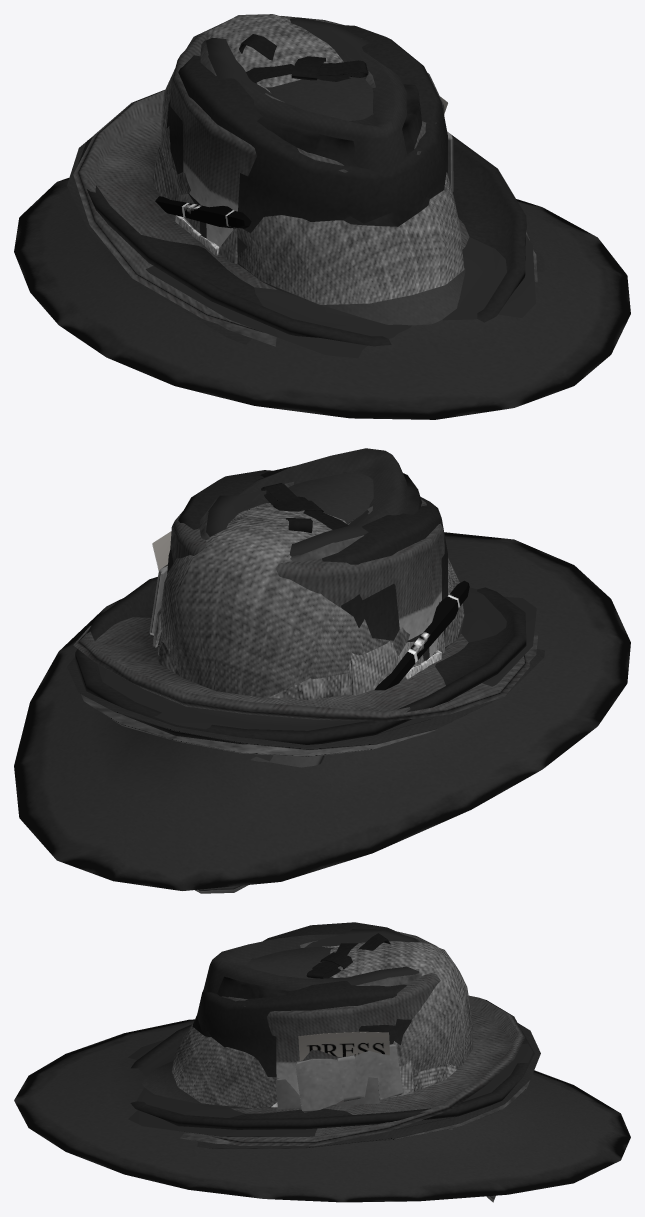
Rendered from Player Hats 1-8 Tilt.fbx.
The picture shows the model from 3 angles, top to bottom: view 1: azimuth 30°, elevation 25°; view 2: azimuth 150°, elevation 25°; view 3: azimuth 270°, elevation 25°; orthographic projection. The views are drawn at different scales.
Visible parts, largest first — view 1: Hat_8_Low, Hat_3_Low, Hat_7_Low, Hat_2_Low, Hat_1_Low, Hat_4_Low, Hat_5_Ribbon_3_Low, Hat_5_Ears_Low, Hat_6_Pen_1_Low, Hat_6_Low, Hat_5_Ribbon_1_Low; view 2: Hat_8_Low, Hat_7_Low, Hat_2_Low, Hat_3_Low, Hat_1_Low, Hat_4_Low, Hat_6_Low, Hat_5_Low, Hat_5_Ears_Low, Hat_6_Pen_1_Low, Hat_5_Ribbon_3_Low; view 3: Hat_8_Low, Hat_7_Low, Hat_2_Low, Hat_3_Low, Hat_1_Low, Hat_4_Low, Bow_2_Low, Hat_6_Paper_Low, Hat_6_Low, Bow_1_Low, Hat_5_Ribbon_3_Low, Hat_5_Low (+1 smaller).
Part boxes in pixels (box(x1,y1,x2,y2)): Hat_8_Low: box(14, 76, 630, 419); Hat_3_Low: box(78, 24, 526, 346); Hat_7_Low: box(161, 14, 465, 325); Hat_2_Low: box(73, 16, 529, 332); Hat_1_Low: box(145, 17, 535, 358); Hat_4_Low: box(67, 49, 544, 344); Hat_5_Ribbon_3_Low: box(239, 34, 368, 82); Hat_5_Ears_Low: box(152, 83, 270, 263); Hat_6_Pen_1_Low: box(155, 196, 251, 228); Hat_6_Low: box(200, 38, 537, 346); Hat_5_Ribbon_1_Low: box(291, 56, 325, 80); Hat_8_Low: box(14, 466, 630, 890); Hat_7_Low: box(161, 503, 464, 697); Hat_2_Low: box(73, 499, 529, 721); Hat_3_Low: box(75, 470, 526, 744); Hat_1_Low: box(97, 472, 536, 736); Hat_4_Low: box(67, 448, 544, 749); Hat_6_Low: box(81, 482, 537, 756); Hat_5_Low: box(157, 632, 349, 893); Hat_5_Ears_Low: box(152, 518, 445, 695); Hat_6_Pen_1_Low: box(374, 580, 469, 690); Hat_5_Ribbon_3_Low: box(261, 483, 348, 532); Hat_8_Low: box(14, 936, 630, 1202); Hat_7_Low: box(141, 941, 472, 1108); Hat_2_Low: box(205, 931, 525, 1145); Hat_3_Low: box(130, 922, 534, 1129); Hat_1_Low: box(128, 929, 532, 1136); Hat_4_Low: box(196, 934, 540, 1148); Bow_2_Low: box(295, 1044, 402, 1112); Hat_6_Paper_Low: box(298, 1031, 390, 1060); Hat_6_Low: box(180, 939, 529, 1144); Bow_1_Low: box(275, 1076, 379, 1109); Hat_5_Ribbon_3_Low: box(306, 933, 390, 978); Hat_5_Low: box(413, 1064, 495, 1202).
Bounding box in the file's own units: 34.31 × 21.72 × 48.5.
